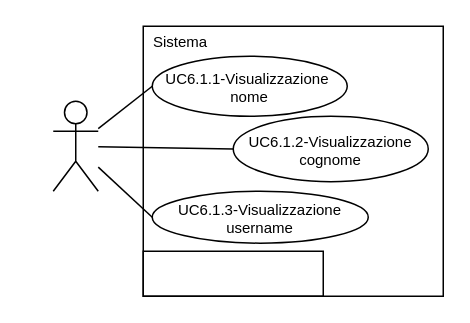
Some shapes in this 470 by 323 pixel diagram are drawn without their labels. The shapes that lost their labels are listed below. From the top down, each one's box as (x1, y1, x2, y2) in pixels, then its label:
(52, 100, 98, 191): Amministratore
(142, 250, 323, 296): UC6.1-Visualizzazione elemento elenco utenti
